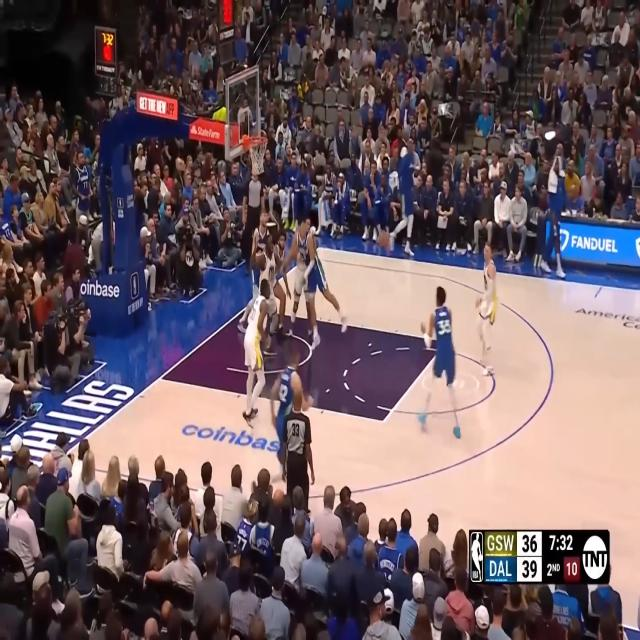Ball: (378, 229, 389, 250)
Clock: (95, 27, 116, 64), (220, 0, 234, 30)
Hoop: (248, 136, 268, 176)
Overlay: (469, 529, 610, 585)
Player: (280, 222, 346, 350), (418, 284, 462, 440), (270, 348, 316, 481), (251, 228, 292, 357), (279, 216, 315, 342), (241, 279, 271, 426), (239, 208, 273, 336), (475, 238, 499, 378), (270, 231, 292, 342)
Ref: (281, 383, 315, 546)
Scoreboard: (485, 530, 580, 584)
